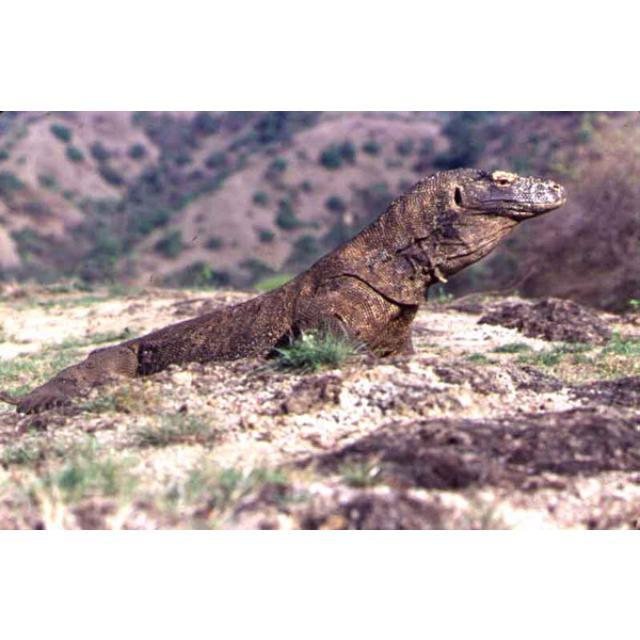KomodoDragon: (1, 165, 567, 414)
